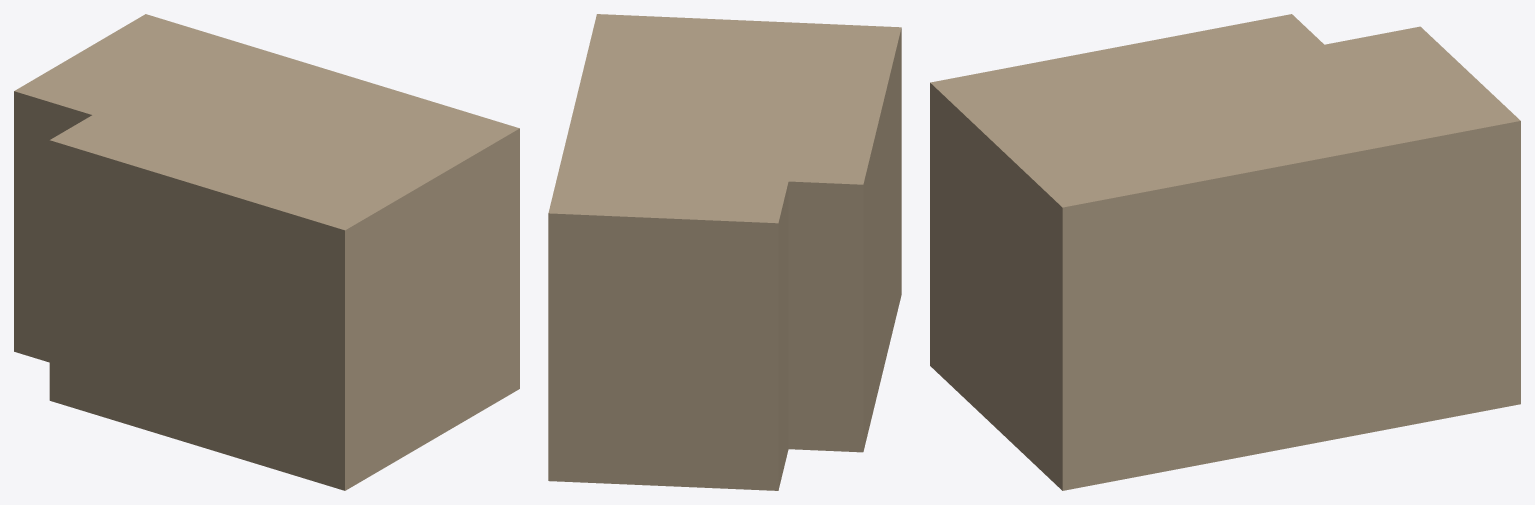
The model's file is bld_106456069.dae.
3 views of the same model, side by side, from view 1: azimuth 30°, elevation 25°; view 2: azimuth 150°, elevation 25°; view 3: azimuth 270°, elevation 25° (orthographic). The views are drawn at different scales.
Visible parts, largest first — view 1: bld_106456069; view 2: bld_106456069; view 3: bld_106456069.
Part boxes in pixels (<box>): bld_106456069: <box>14,14,519,490</box>; bld_106456069: <box>548,14,901,490</box>; bld_106456069: <box>930,14,1520,490</box>.
Bounding box in the file's own units: 11.72 × 15.11 × 8.
